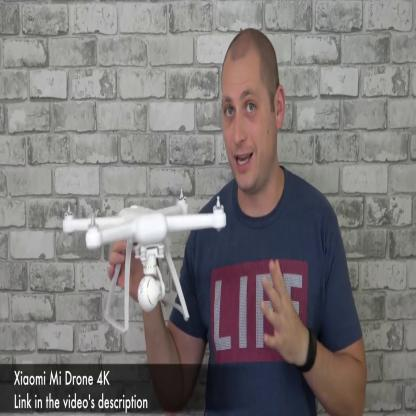drone: (57, 180, 228, 262)
